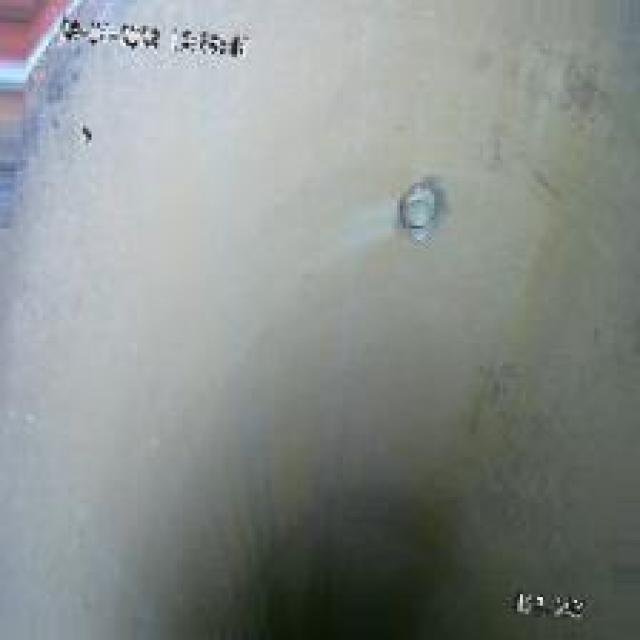ferrule: (383, 166, 446, 240)
